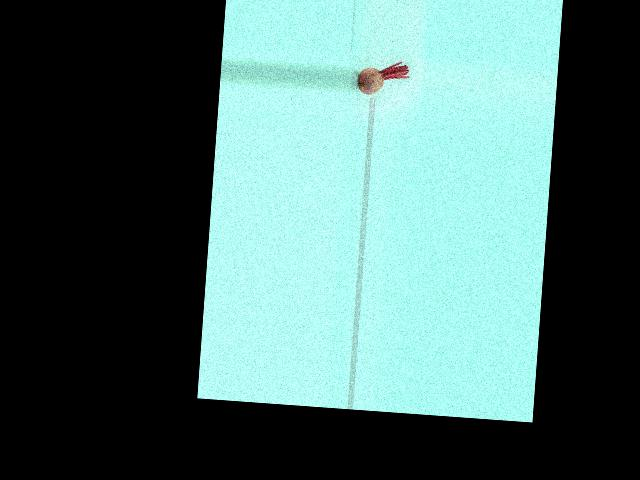beet: (356, 59, 410, 97)
